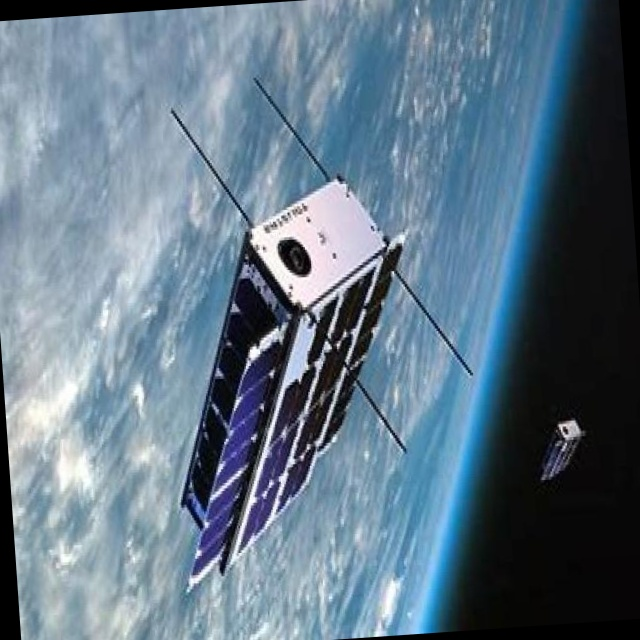satellite: (130, 60, 478, 580), (522, 400, 609, 498)
